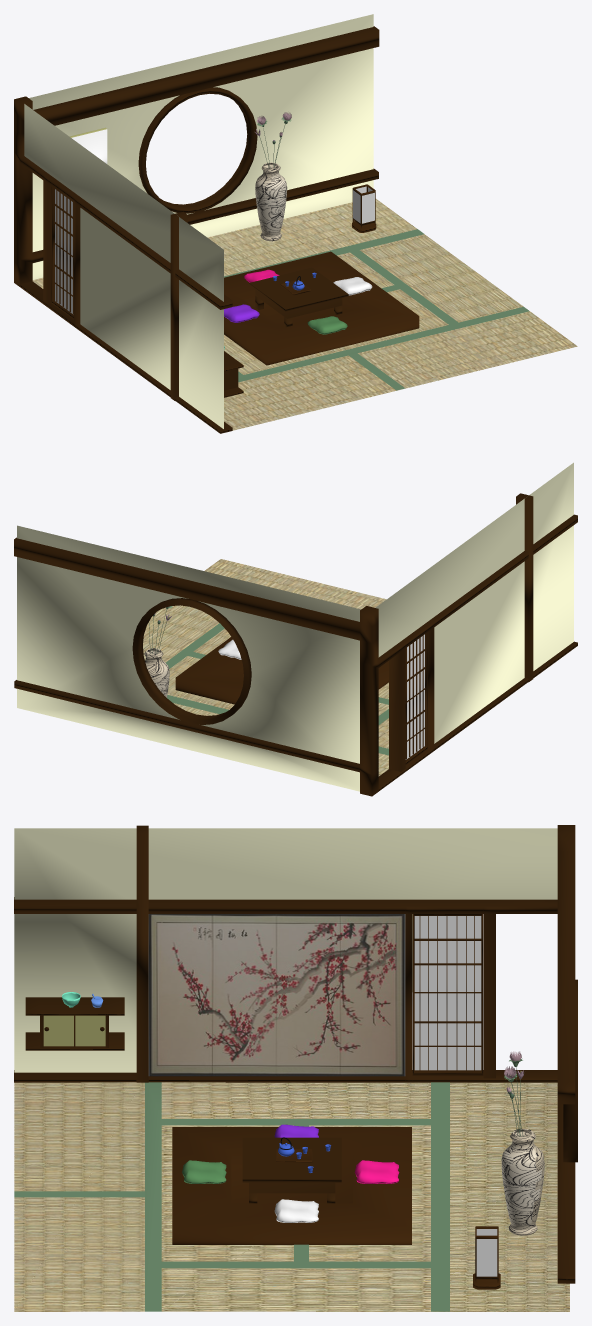
The model's file is isometric_japanese_tea_room.glb.
3 renders of one model, top to bottom at view 1: azimuth 30°, elevation 25°; view 2: azimuth 150°, elevation 25°; view 3: azimuth 270°, elevation 25°, orthographic. The views are drawn at different scales.
Parts seen in each view (by area): view 1: Cube; view 2: Cube; view 3: Cube.
Boxes of the visible parts, x1=… form: Cube: x1=14, y1=14, x2=577, y2=433; Cube: x1=14, y1=462, x2=577, y2=796; Cube: x1=14, y1=825, x2=577, y2=1311.
Size of the model in its own units: 6.16 by 3.22 by 6.17.
Materials: 34 (4 with a texture image).
